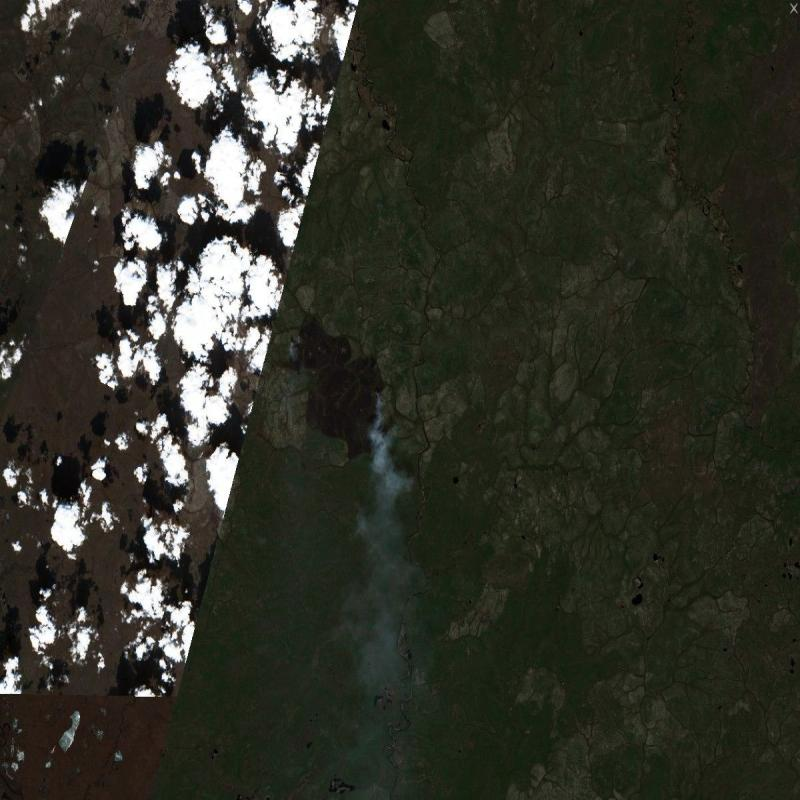fire: (283, 332, 387, 446)
